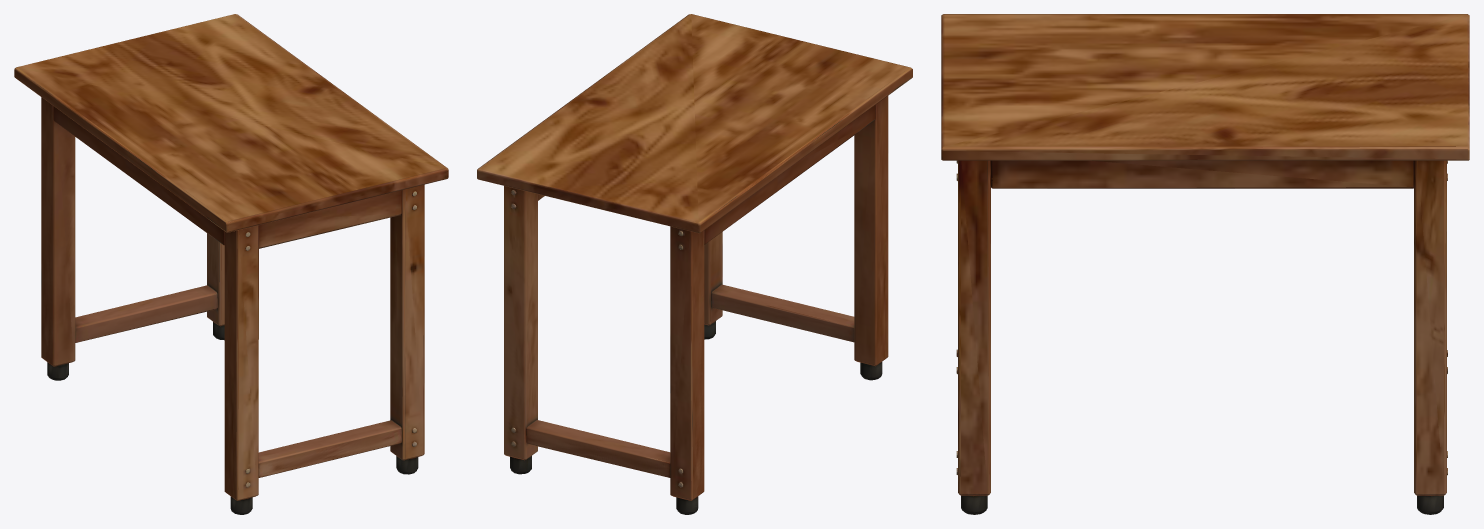
3 views of the same model, side by side, from view 1: azimuth 30°, elevation 25°; view 2: azimuth 150°, elevation 25°; view 3: azimuth 270°, elevation 25° (orthographic). The views are drawn at different scales.
Visible parts, largest first — view 1: tripo_node_9879fb55; view 2: tripo_node_9879fb55; view 3: tripo_node_9879fb55.
Boxes of the visible parts, left/top/right/bottom form: tripo_node_9879fb55: left=14, top=14, right=448, bottom=514; tripo_node_9879fb55: left=477, top=14, right=912, bottom=514; tripo_node_9879fb55: left=941, top=14, right=1469, bottom=514.
Bounding box in the file's own units: 0.6035 × 0.791 × 0.998.
Materials: 1 (1 with a texture image).
